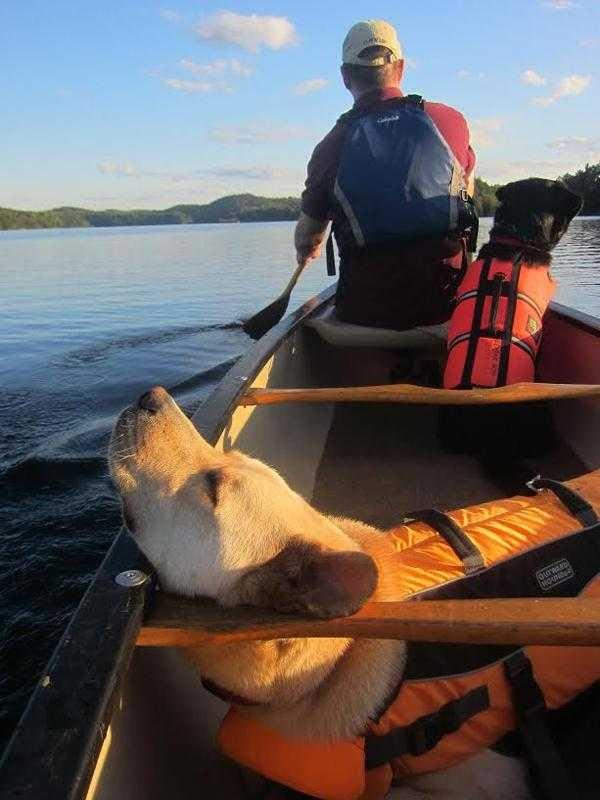kayak: (3, 207, 600, 799)
